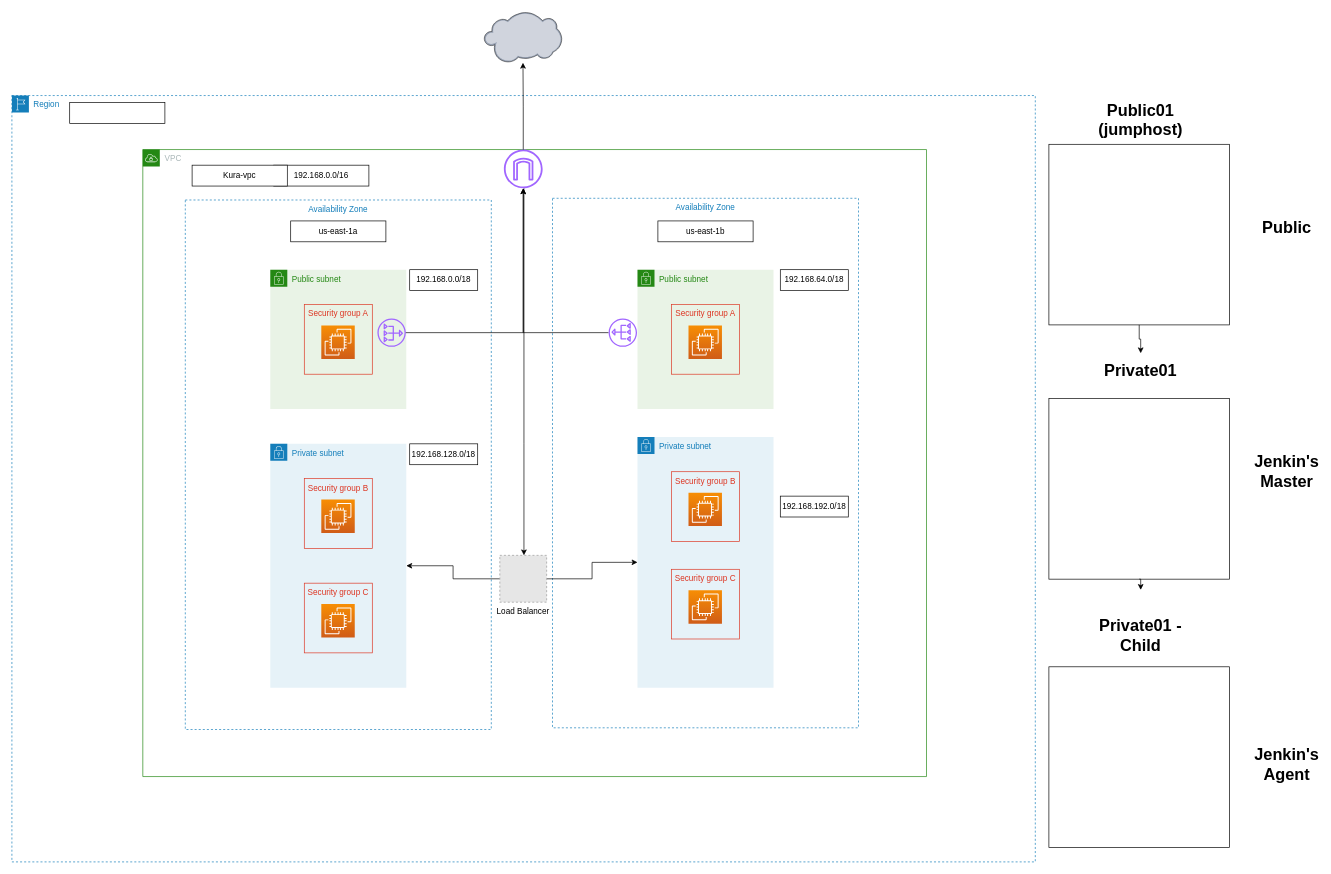
This 1331x874 diagram has some shape labels left out. Grey dashed boxes stand in for pictures. Each missing label, with the box of its shape:
Internet Gateway: (504, 149, 542, 188)
Security Groups Jenkins_child SSH access to "Jumphost_Only": (1048, 666, 1230, 847)
Security Groups Jumphost_Only SSH access to "Public SSH" Any Port 8080 Access: (1048, 398, 1230, 579)
Security Groups Public SSH Any SSH access: (1048, 144, 1230, 325)
us-east N.Virginia: (69, 102, 165, 123)
